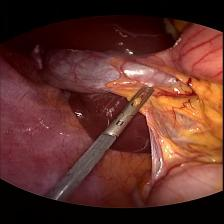Grasper: (105, 84, 158, 134)
